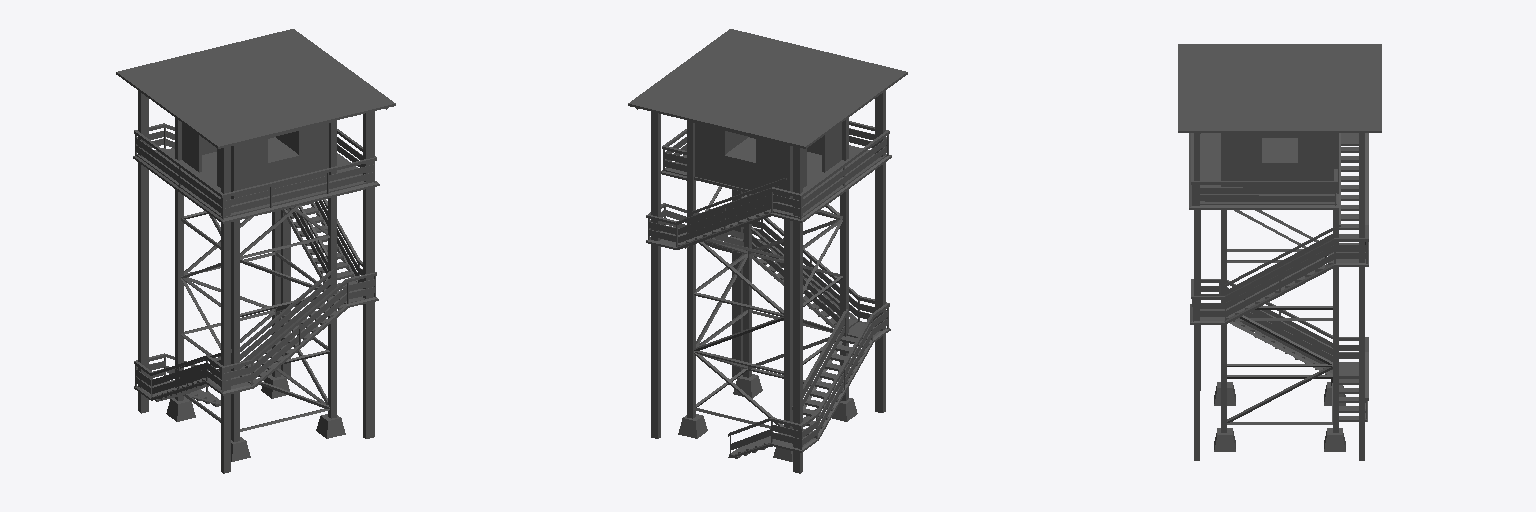
The model's file is watch_tower.obj.
The picture shows the model from 3 angles: view 1: azimuth 30°, elevation 25°; view 2: azimuth 150°, elevation 25°; view 3: azimuth 270°, elevation 25°; orthographic projection.
Parts seen in each view (by area): view 1: watchtowerHigh_watchtower; view 2: watchtowerHigh_watchtower; view 3: watchtowerHigh_watchtower.
Part boxes in pixels (x1,y1,x2,y2): watchtowerHigh_watchtower: (116,29,395,473); watchtowerHigh_watchtower: (628,29,907,473); watchtowerHigh_watchtower: (1178,44,1381,460).
Size of the model in its own units: 4.22 by 7.65 by 4.22.